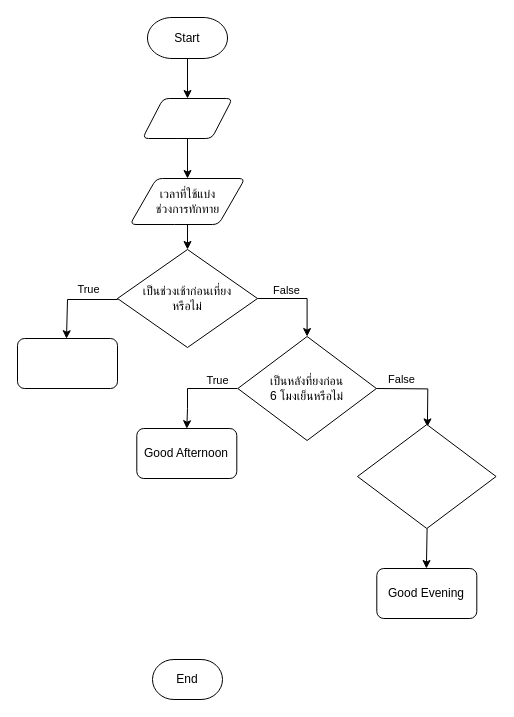
Some shapes in this 514 by 717 pixel diagram are drawn without their labels. Each missing label, with the centre of its shape:
else: point 426,476
Good Morning: point 67,363
เวลาปัจจุบัน: point 187,118
